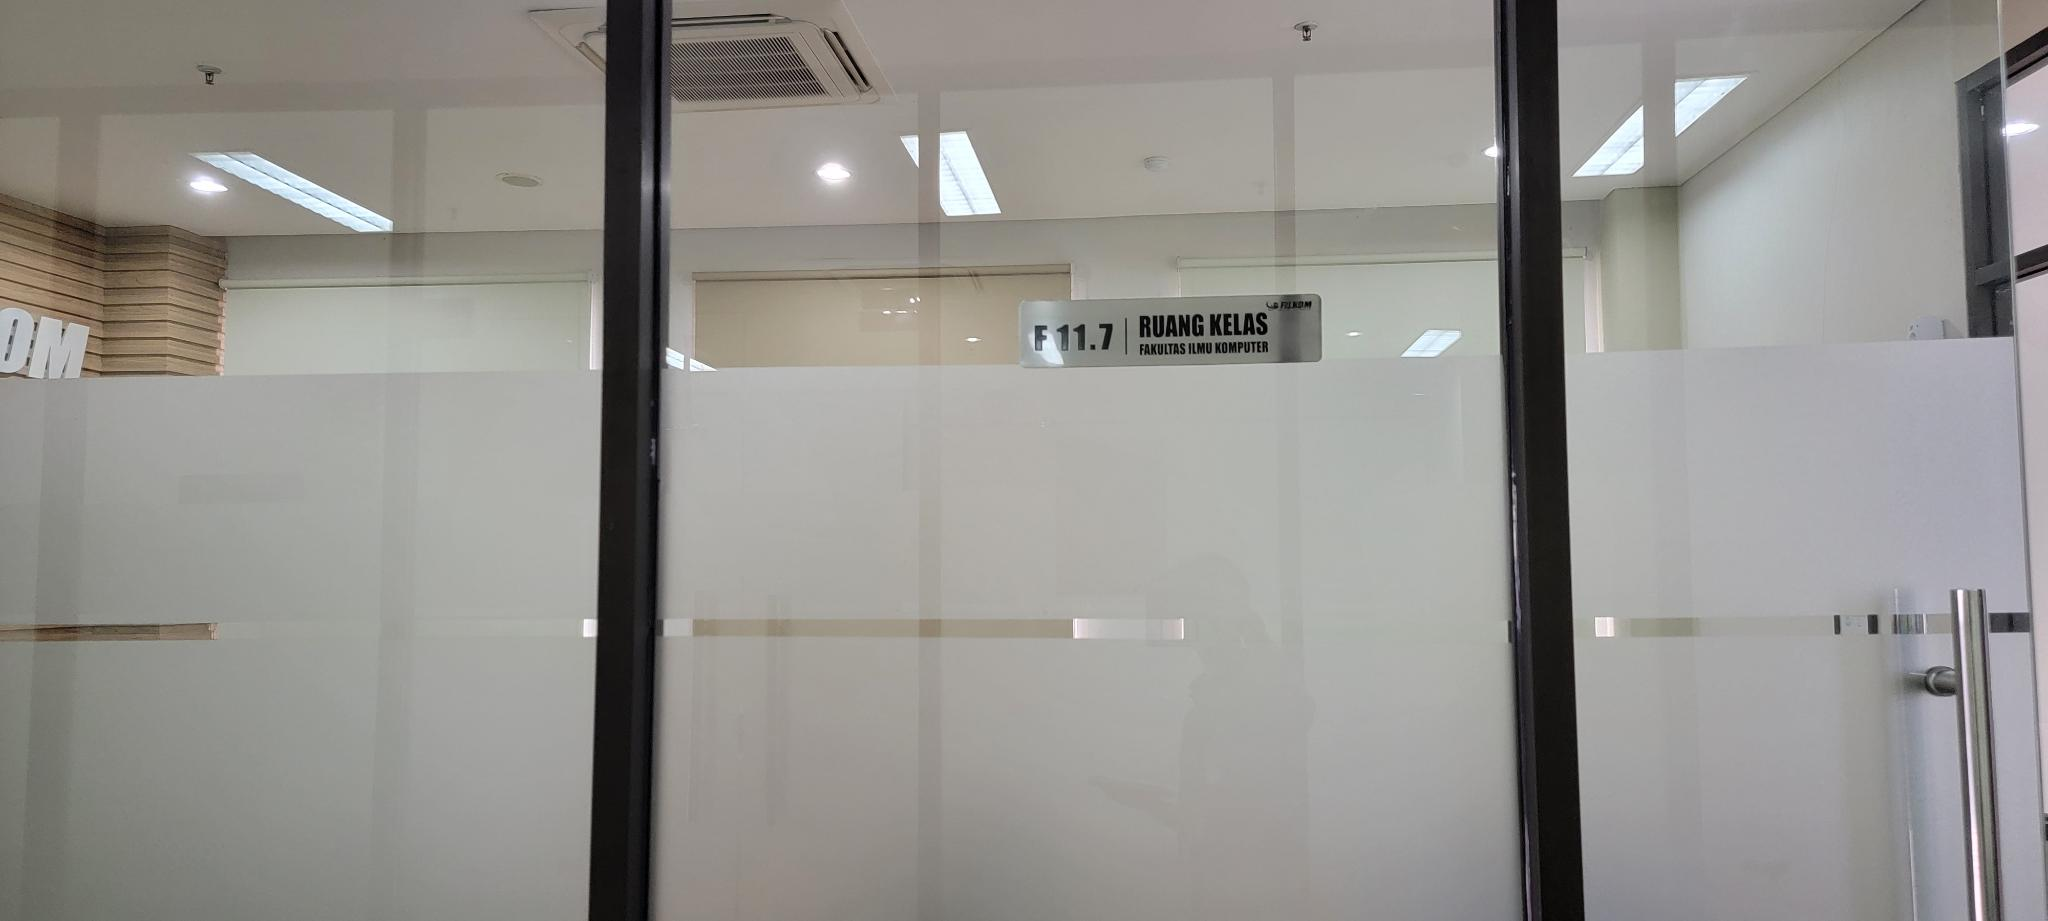plate: (1012, 294, 1323, 370)
